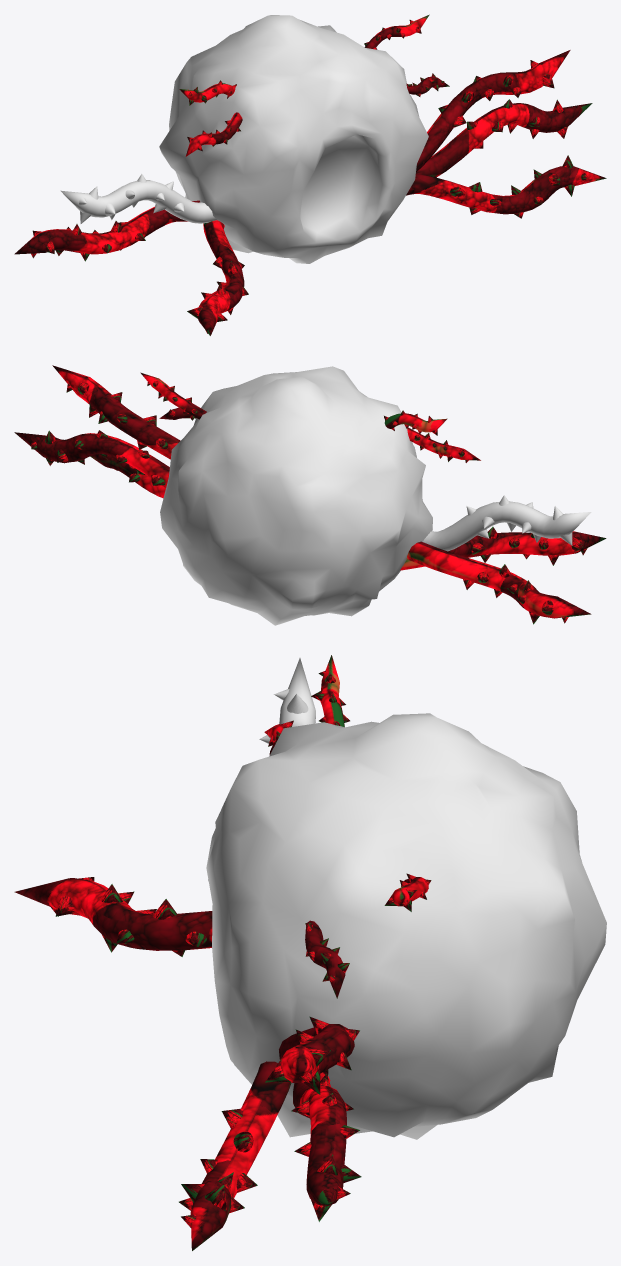
File: sporepod.fbx
3 views of the same model, one above another, from view 1: azimuth 30°, elevation 25°; view 2: azimuth 150°, elevation 25°; view 3: azimuth 270°, elevation 25° (orthographic). The views are drawn at different scales.
Visible parts, largest first — view 1: Cube.001; view 2: Cube.001; view 3: Cube.001.
Part boxes in pixels (x1,y1,x2,y2): Cube.001: (14, 14, 606, 335); Cube.001: (14, 365, 606, 625); Cube.001: (14, 655, 606, 1250).
Size of the model in its own units: 429 by 162 by 225.
2 materials, 1 textured.
